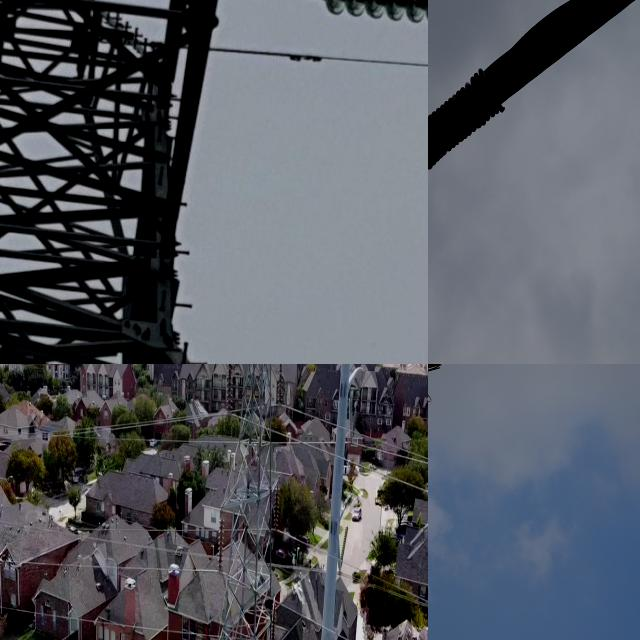杆塔: (0, 0, 335, 364), (214, 364, 283, 640)
正常绝缘子: (321, 0, 428, 33), (223, 364, 236, 420), (216, 511, 224, 575), (275, 364, 286, 410), (268, 595, 278, 640), (272, 478, 280, 534)
